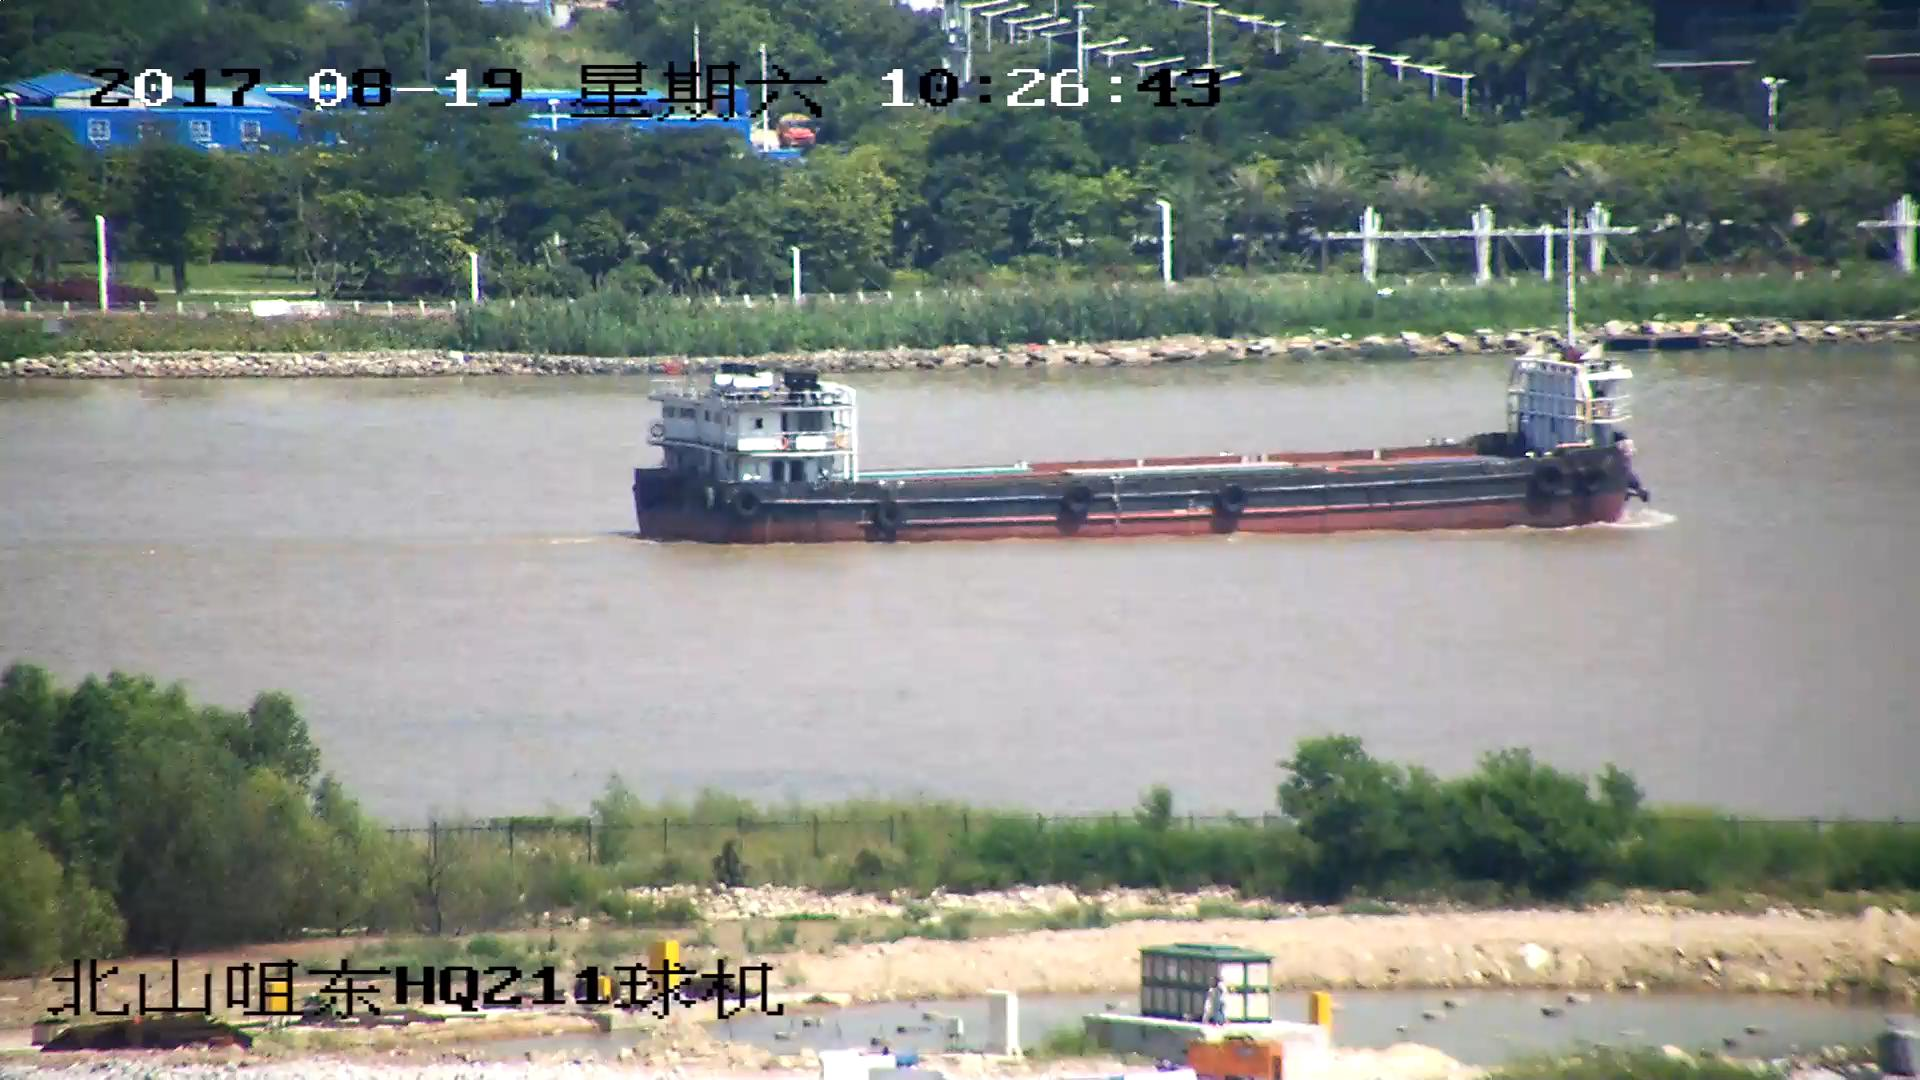general cargo ship: (631, 356, 1649, 537)
